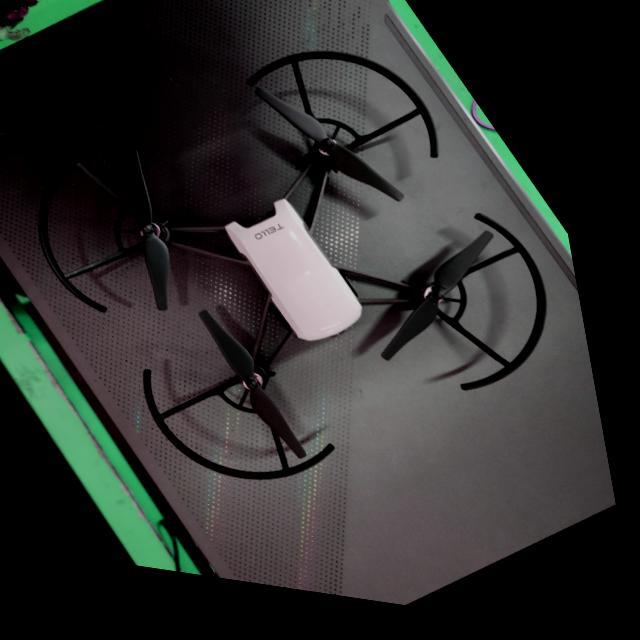drone: (44, 52, 567, 499)
